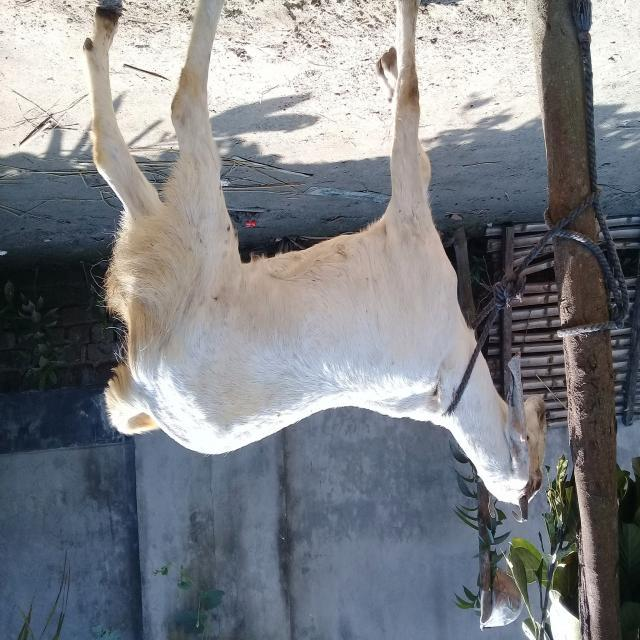Goat: (82, 1, 548, 525)
